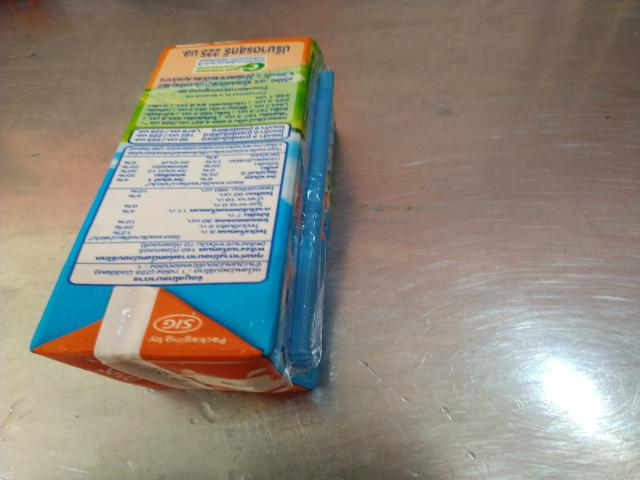drink_box: (30, 38, 333, 393)
